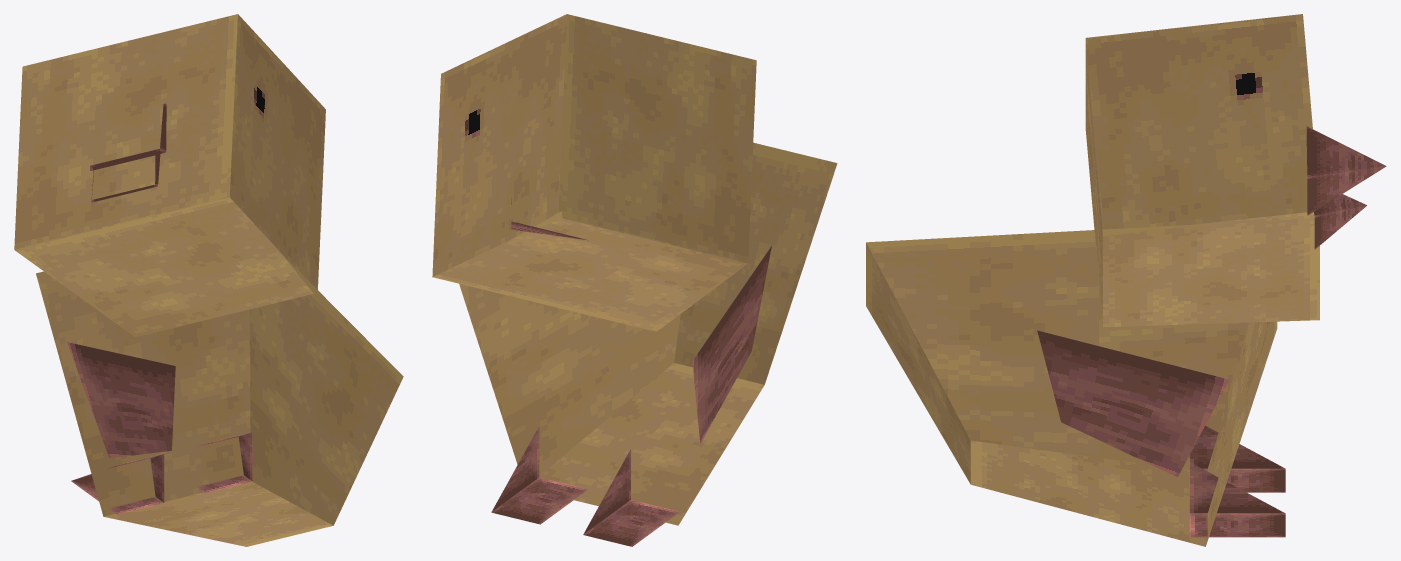
The model's file is ps2_save-icons_shinobidowayoftheninja-japan.glb.
The picture shows the model from 3 angles, left to right: view 1: azimuth 30°, elevation 25°; view 2: azimuth 150°, elevation 25°; view 3: azimuth 270°, elevation 25°; orthographic projection. The views are drawn at different scales.
Parts seen in each view (by area): view 1: gmicon.ico; view 2: gmicon.ico; view 3: gmicon.ico.
Part boxes in pixels (box(x1,y1,x2,y2)): gmicon.ico: box(14, 14, 403, 546); gmicon.ico: box(432, 14, 837, 546); gmicon.ico: box(866, 14, 1386, 546).
Bounding box in the file's own units: 2.01 × 3.79 × 4.05.
Materials: 1 (1 with a texture image).
